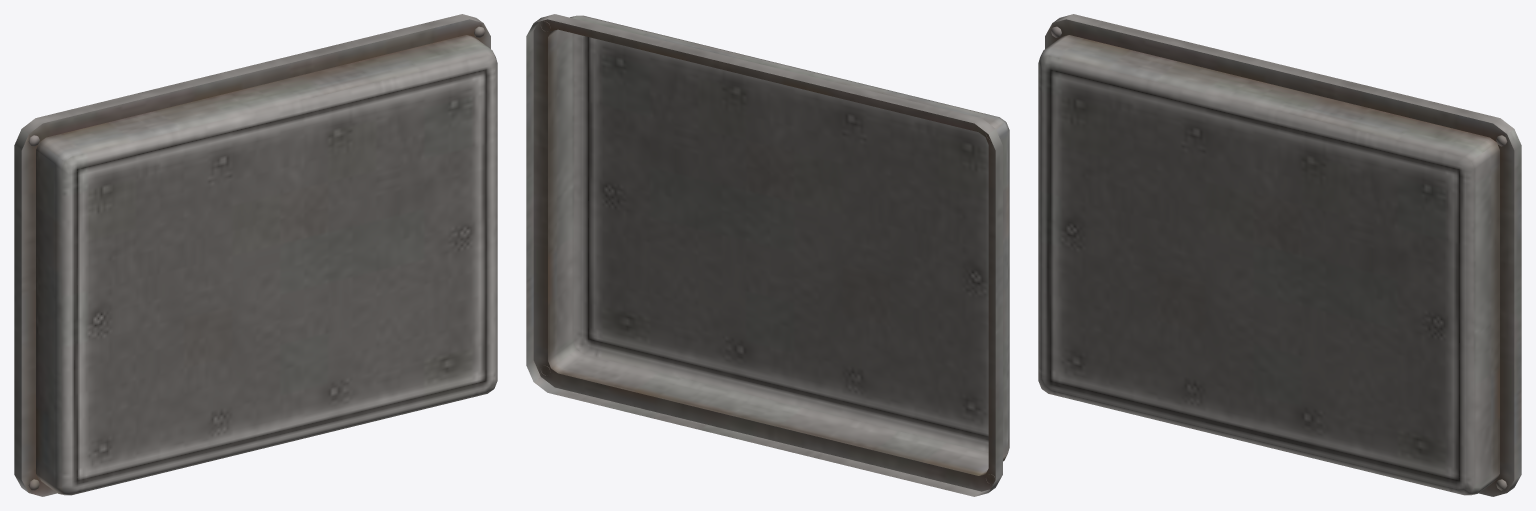
Rendered from vent_closed_01.gltf.
3 renders of one model, left to right at view 1: azimuth 30°, elevation 25°; view 2: azimuth 150°, elevation 25°; view 3: azimuth 330°, elevation 25°, orthographic.
Visible parts, largest first — view 1: vent_closed_01; view 2: vent_closed_01; view 3: vent_closed_01.
Boxes of the visible parts, bbox=[...] form: vent_closed_01: bbox=[14, 14, 497, 496]; vent_closed_01: bbox=[526, 14, 1009, 496]; vent_closed_01: bbox=[1038, 14, 1521, 496].
Size of the model in its own units: 0.5521 by 0.42 by 0.0658.
1 material, 1 textured.
